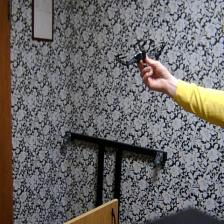drone: (114, 34, 169, 74)
